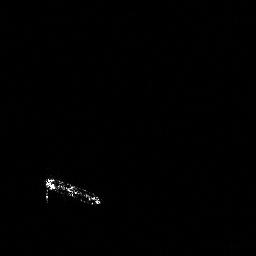ship: (40, 173, 105, 209)
